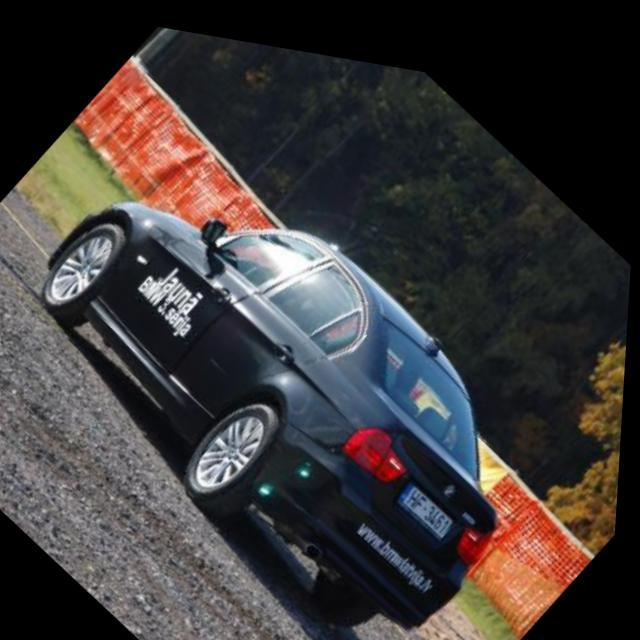license_plate: (396, 464, 462, 528)
